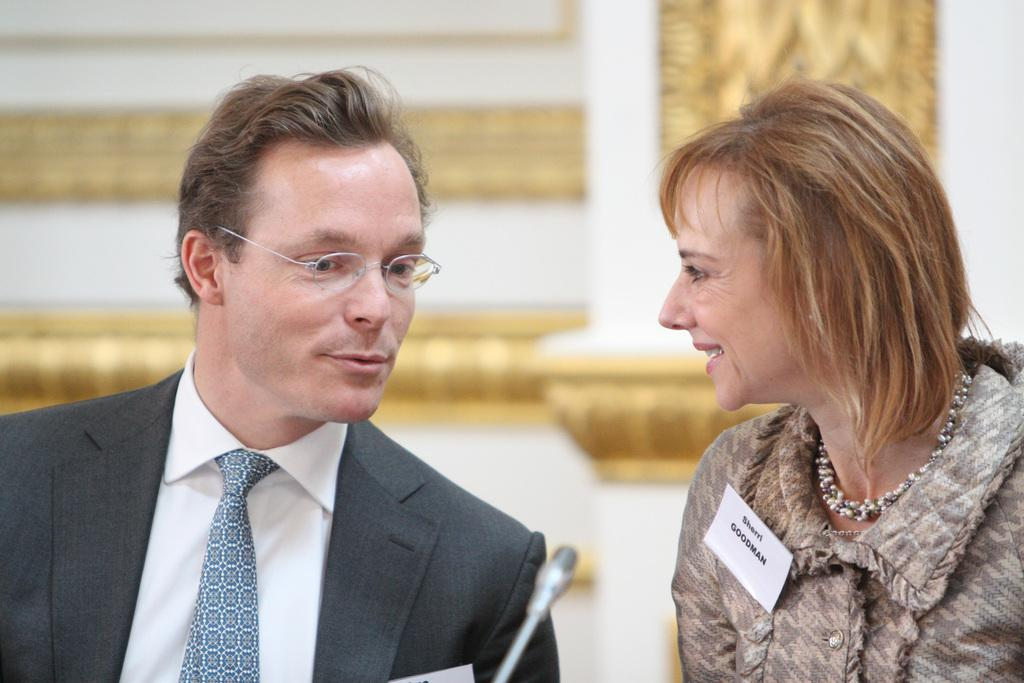Sem Máscara: (220, 150, 420, 423), (654, 161, 817, 409)
